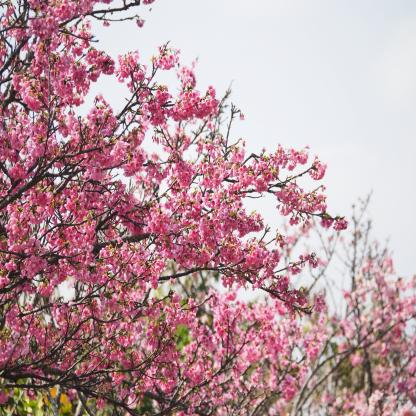KanhiSakura: (0, 0, 349, 416), (268, 196, 416, 416)
